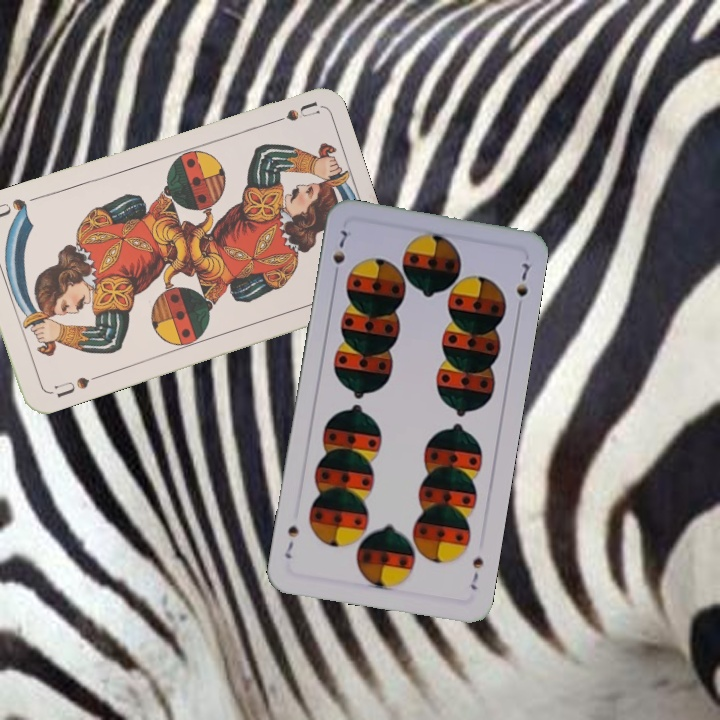S7: (328, 226, 350, 282), (466, 553, 486, 593)
SU: (262, 98, 321, 128), (50, 370, 103, 400)
